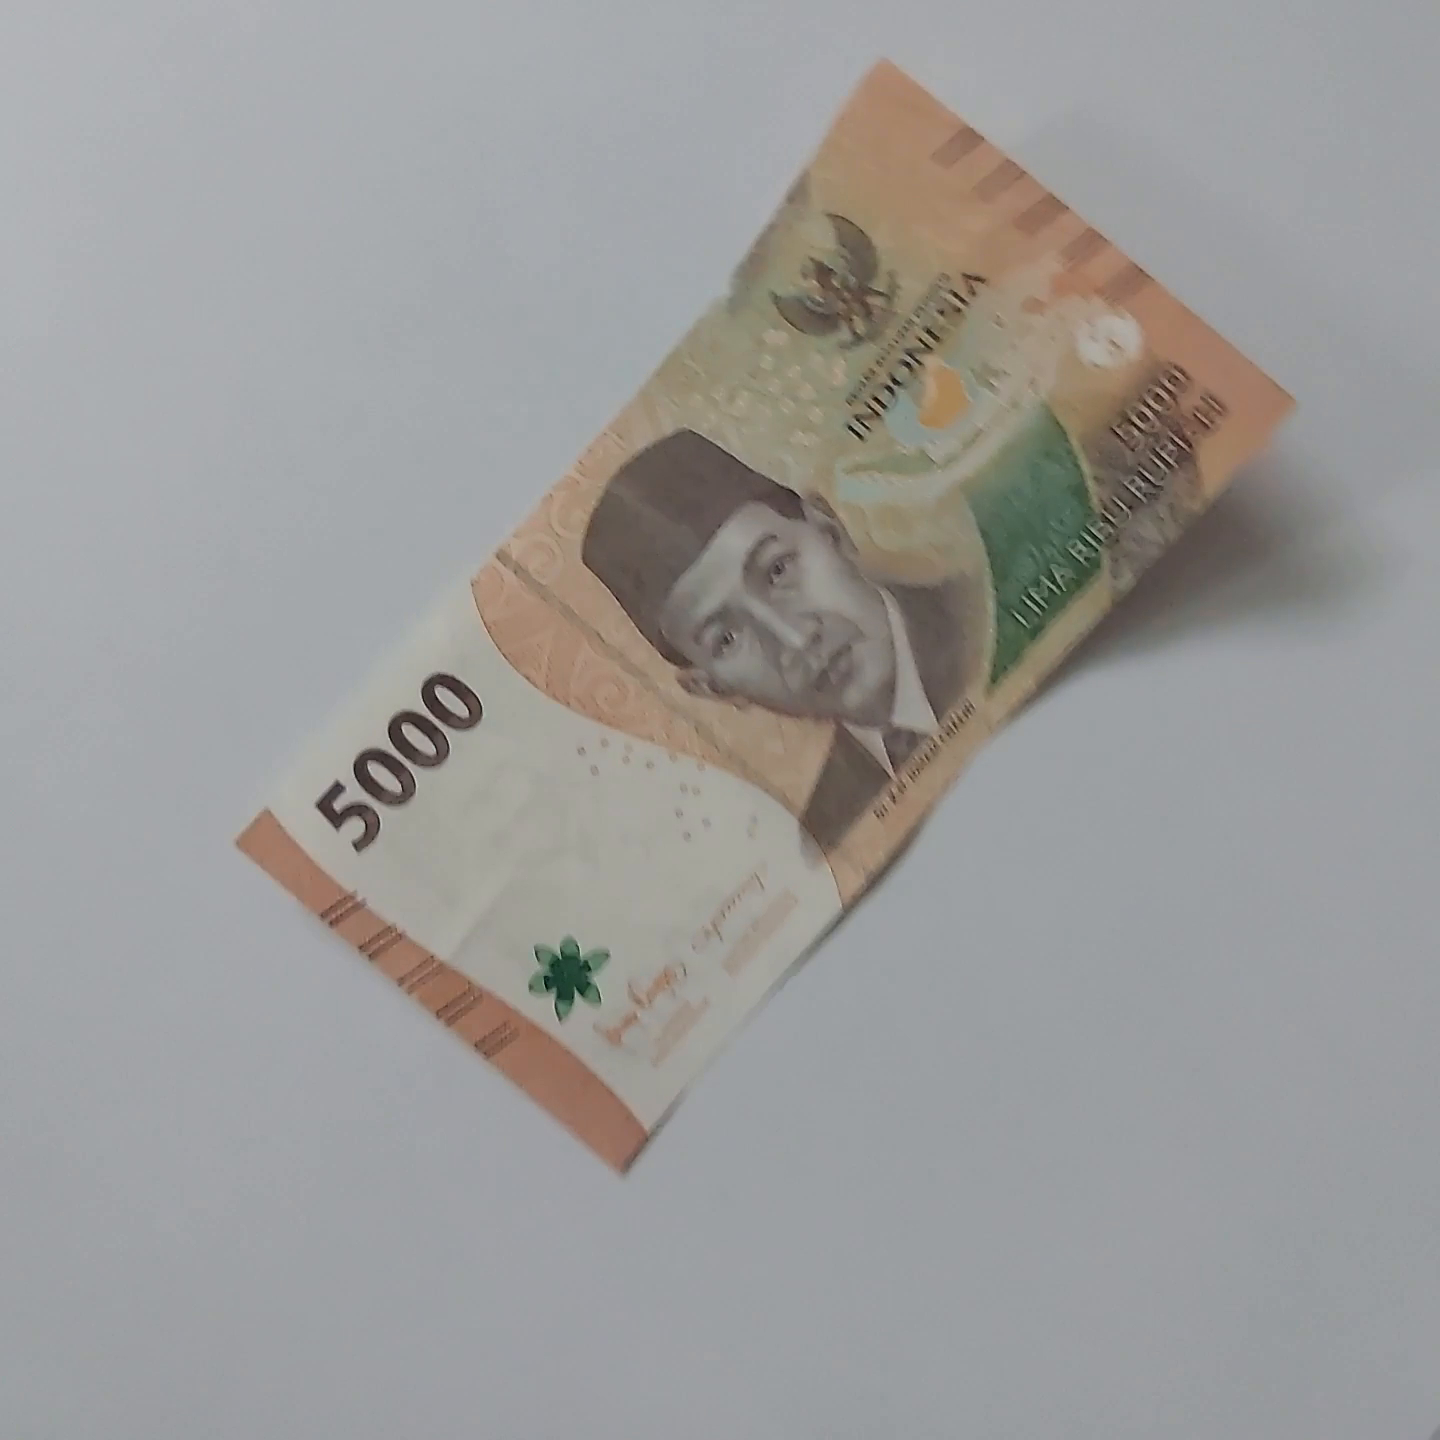5k: (228, 894, 1292, 1437)
